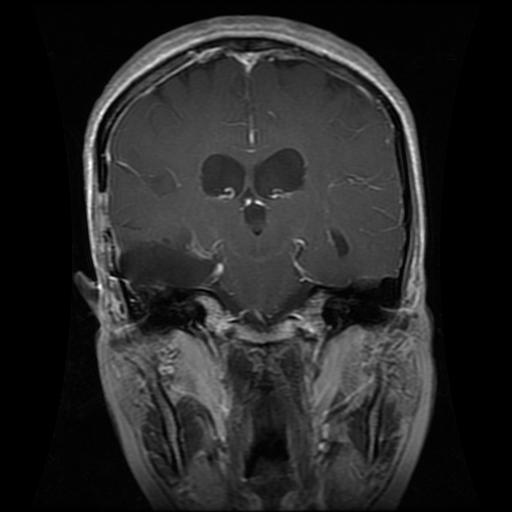Gliomia_tumour: (118, 231, 226, 292)
